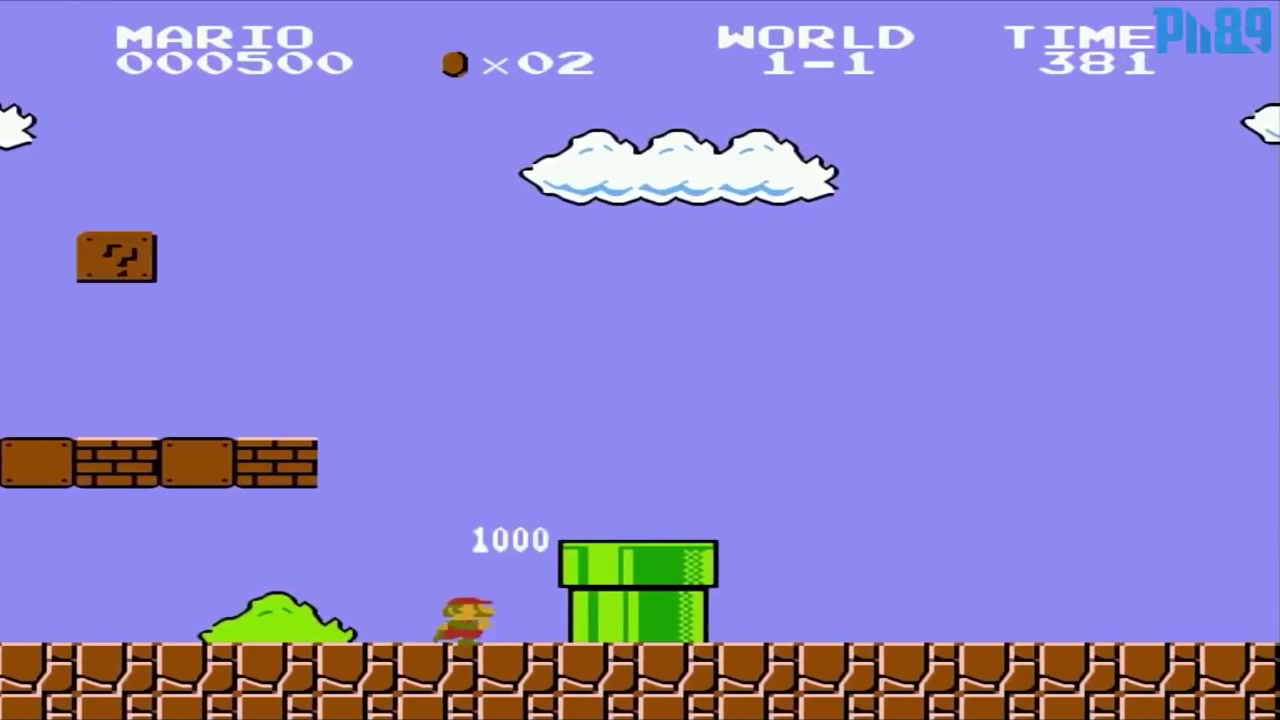mario: (423, 586, 502, 646)
